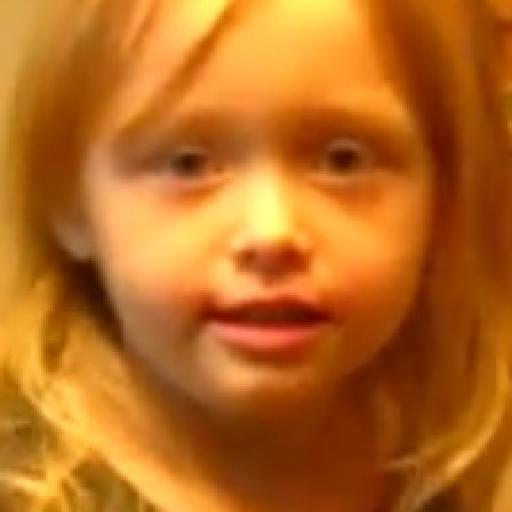Autism: (55, 0, 503, 457)
